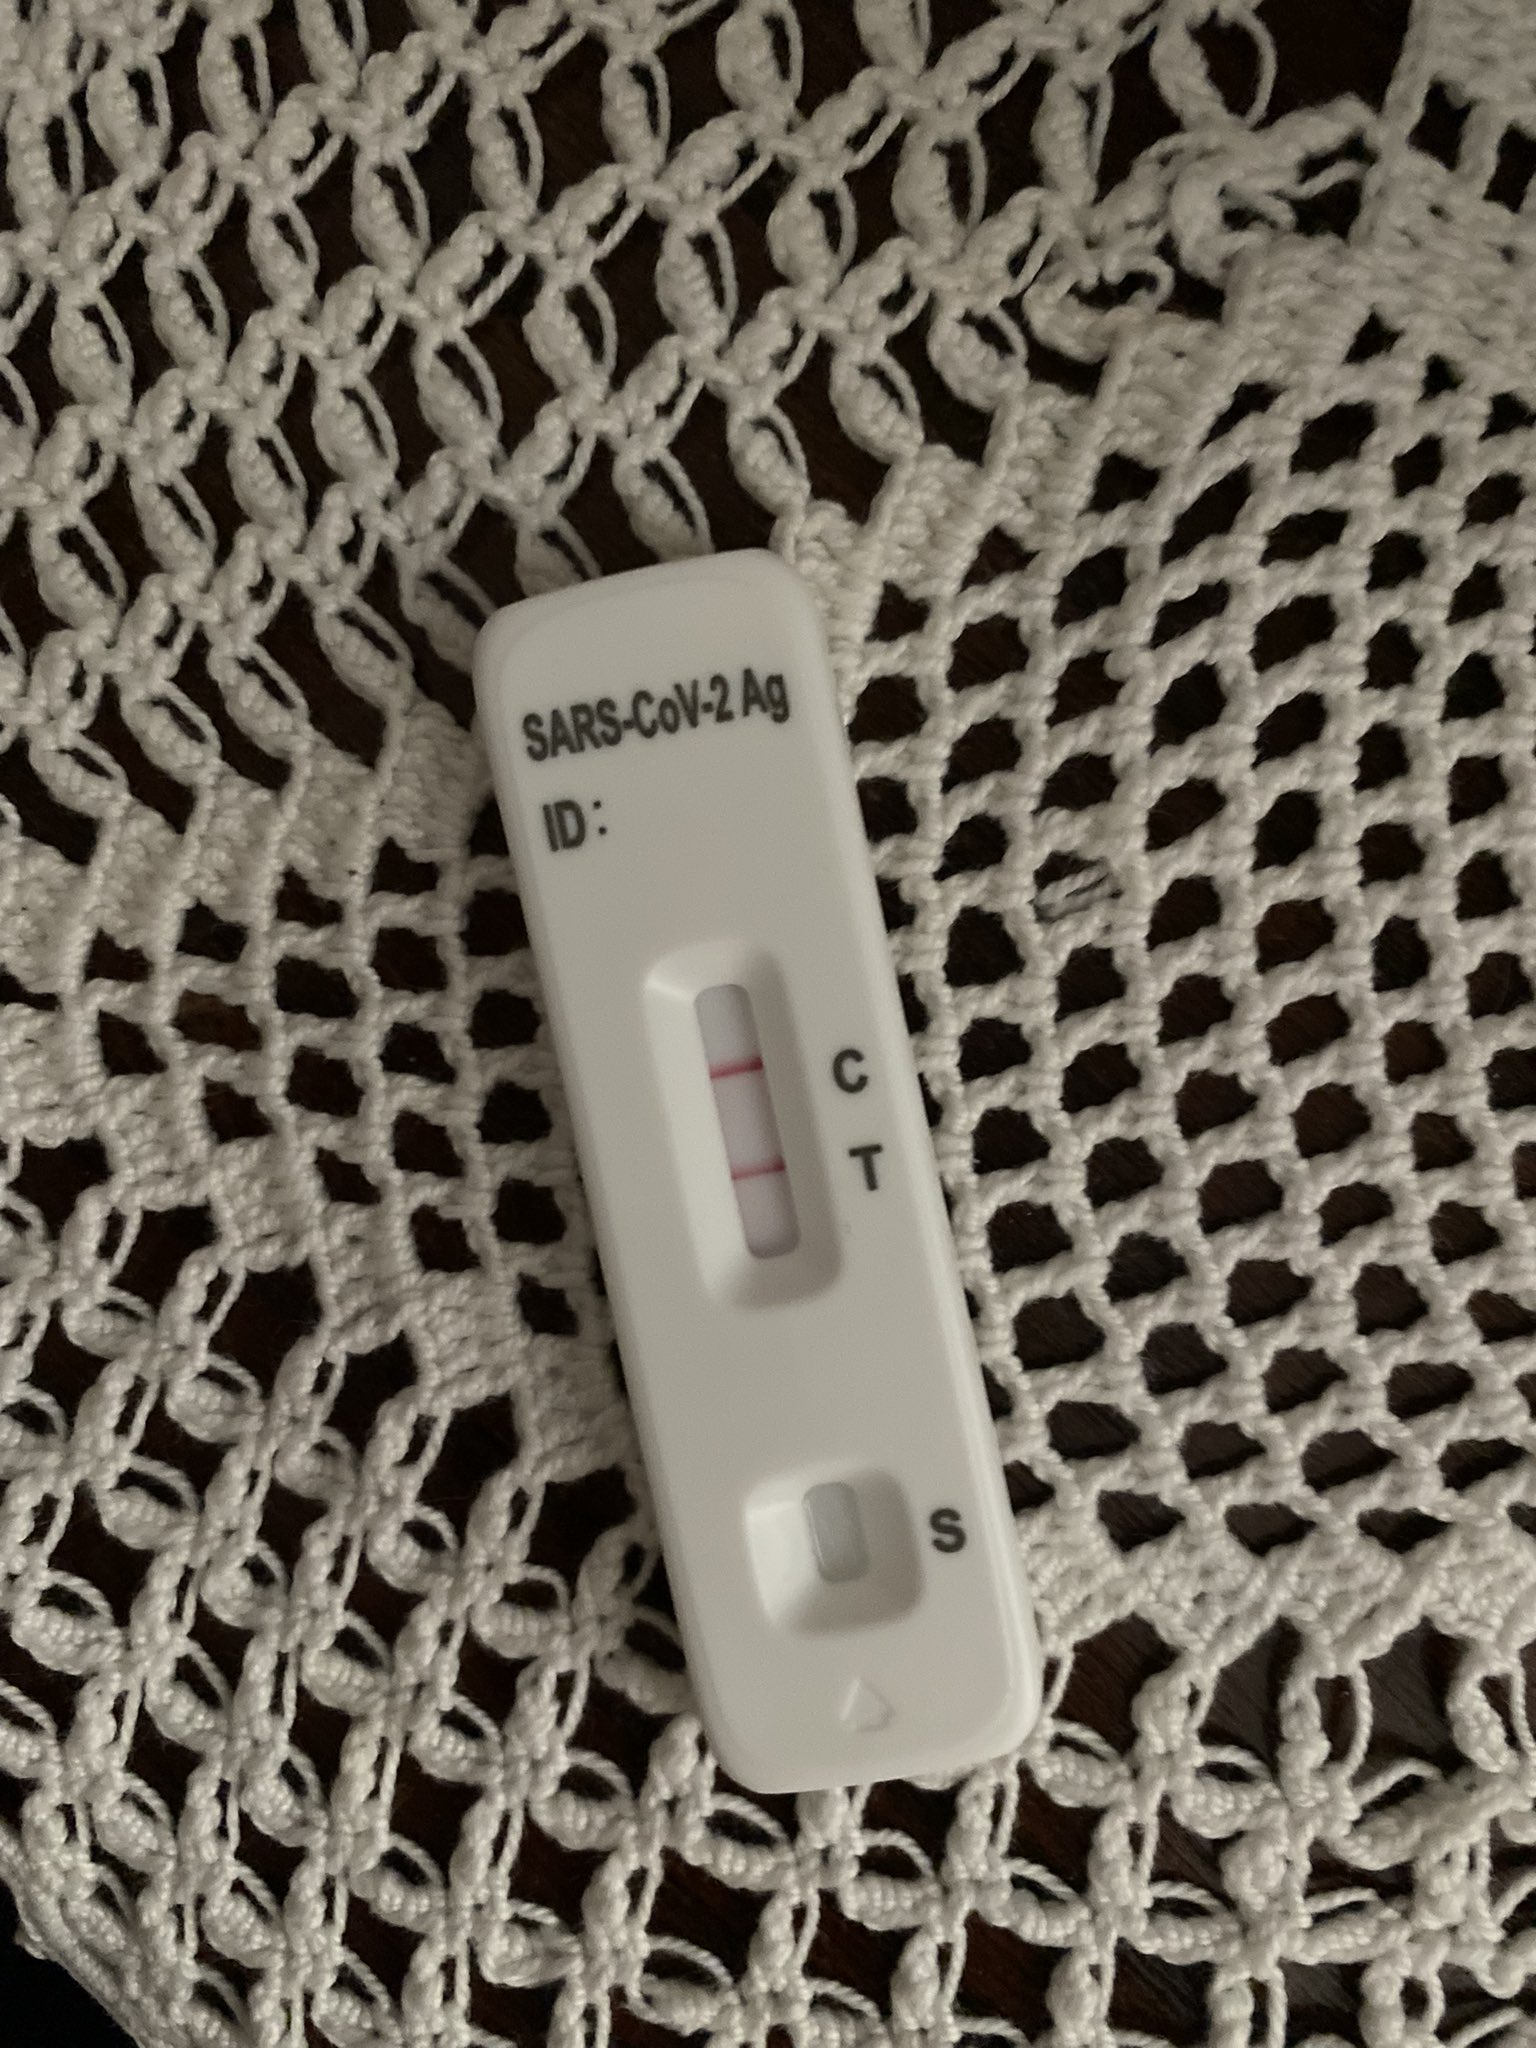positive: (673, 958, 805, 1319)
